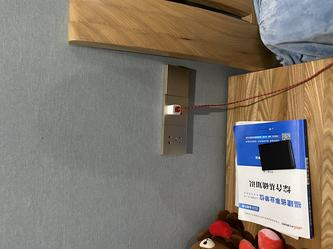switch: (165, 69, 195, 99)
